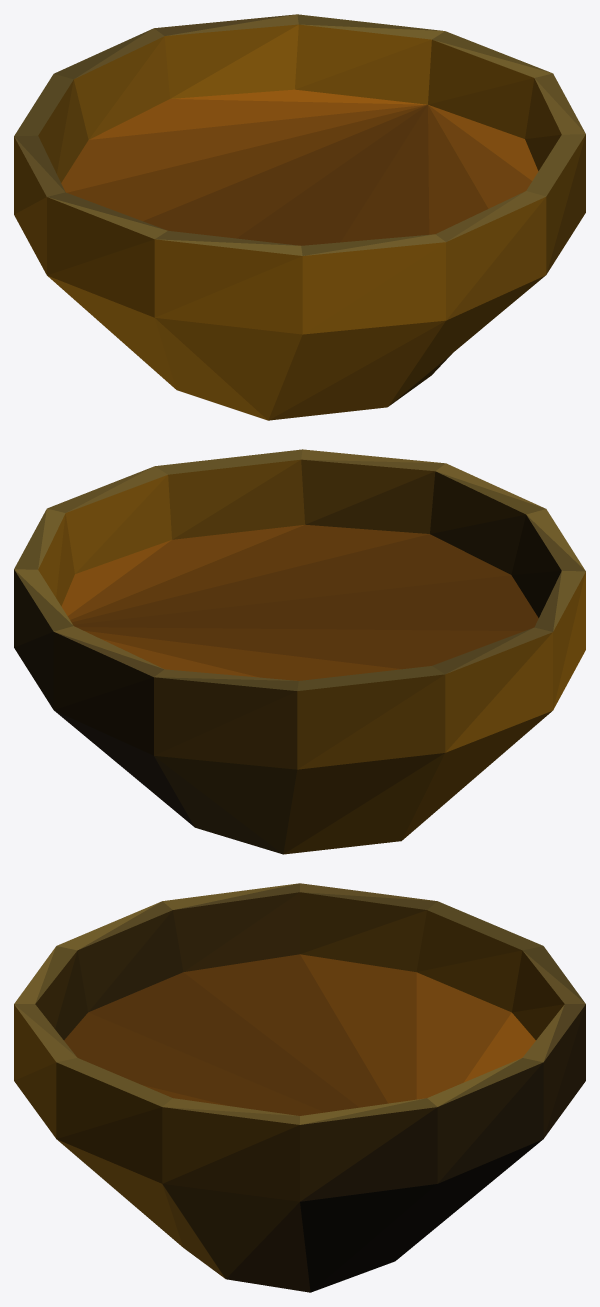
The model's file is curry.obj.
The picture shows the model from 3 angles, top to bottom: view 1: azimuth 30°, elevation 25°; view 2: azimuth 150°, elevation 25°; view 3: azimuth 270°, elevation 25°; orthographic projection. The views are drawn at different scales.
Visible parts, largest first — view 1: Item Curry 2026-09-13_16-41-50; view 2: Item Curry 2026-09-13_16-41-50; view 3: Item Curry 2026-09-13_16-41-50.
Part boxes in pixels (x1,y1,x2,y2): Item Curry 2026-09-13_16-41-50: [14, 14, 585, 420]; Item Curry 2026-09-13_16-41-50: [14, 449, 585, 854]; Item Curry 2026-09-13_16-41-50: [14, 883, 585, 1292].
Size of the model in its own units: 54 by 24 by 54.
